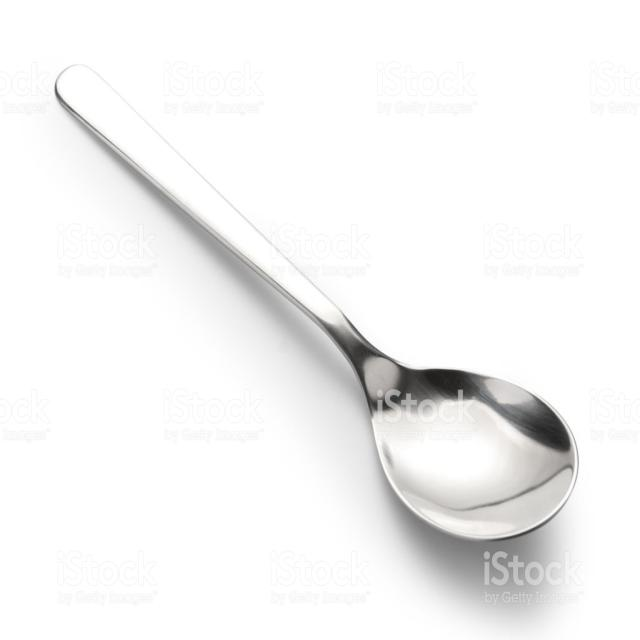spoon: (44, 38, 596, 557)
